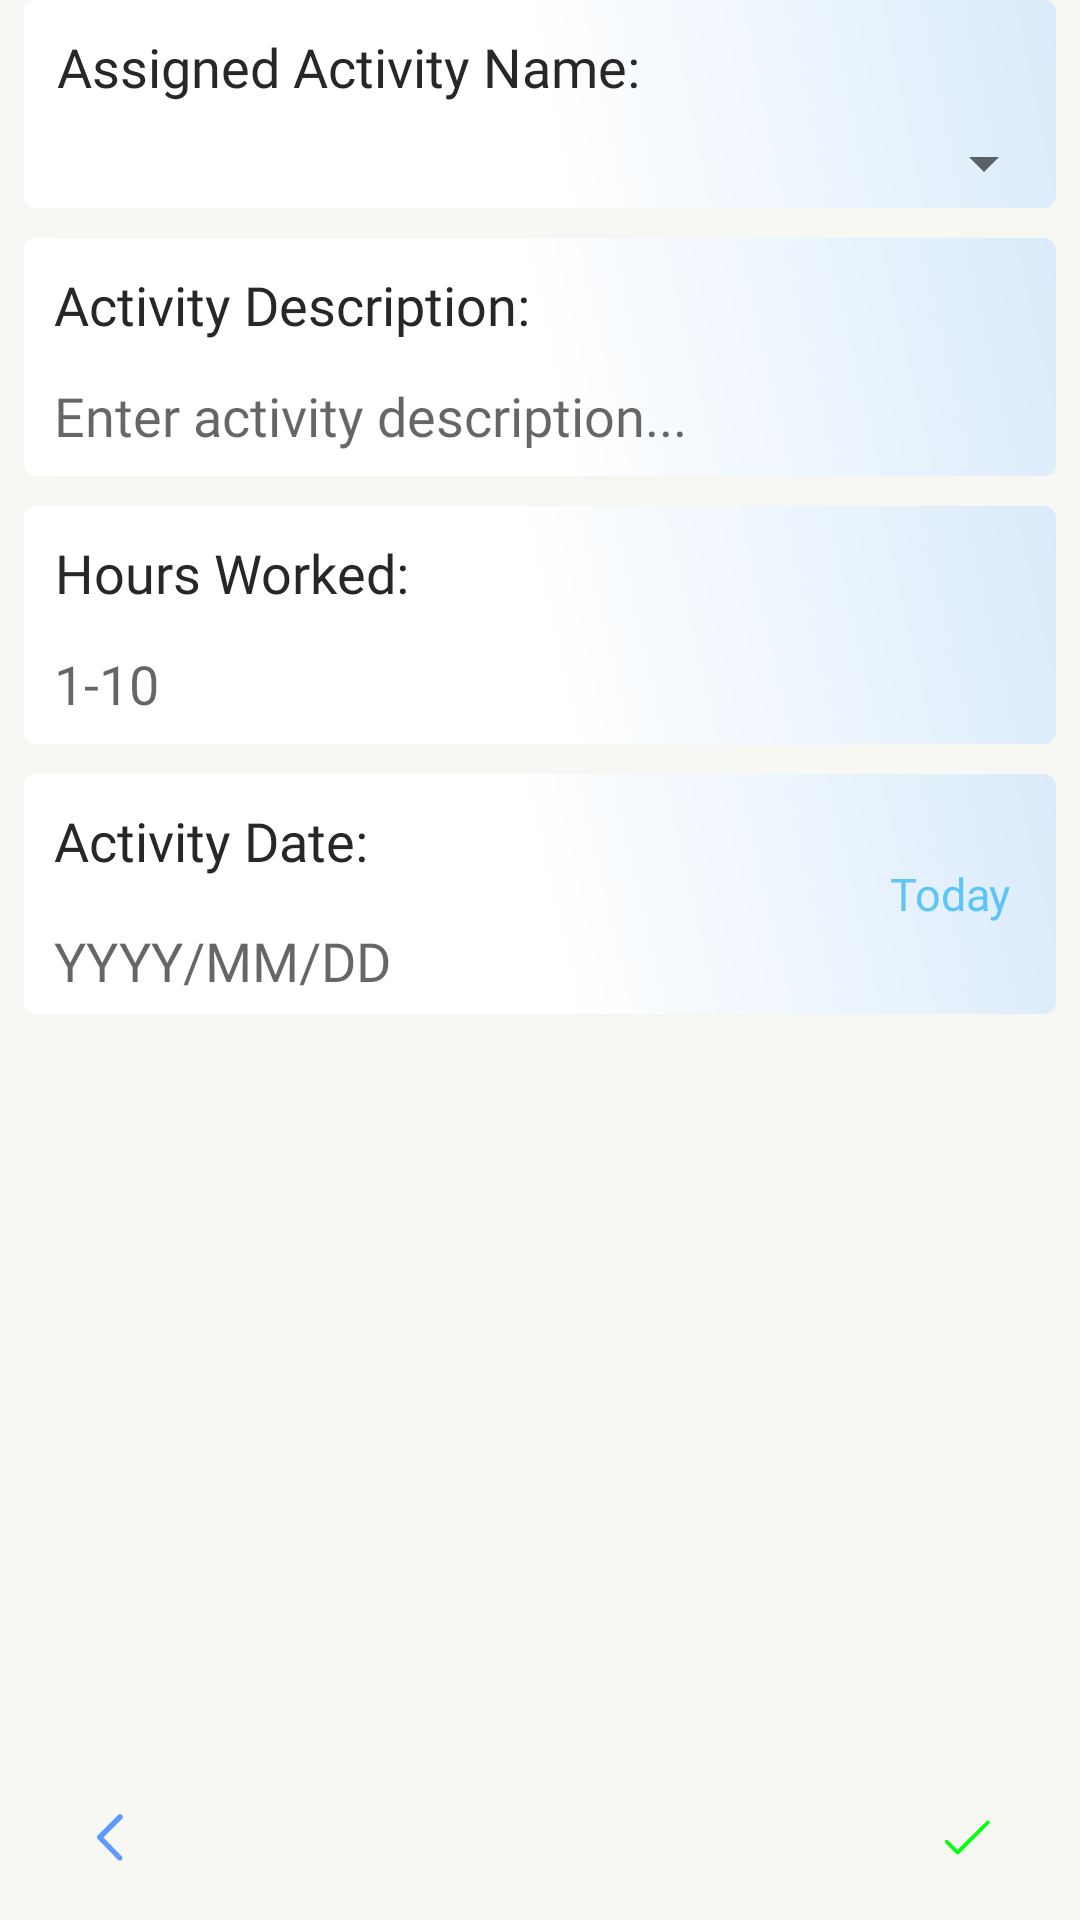

Point at icon controls on the screen. Image size 1080px×1920px, points as (x=x, y=y).
back: (x=110, y=1837)
tick: (x=967, y=1837)
